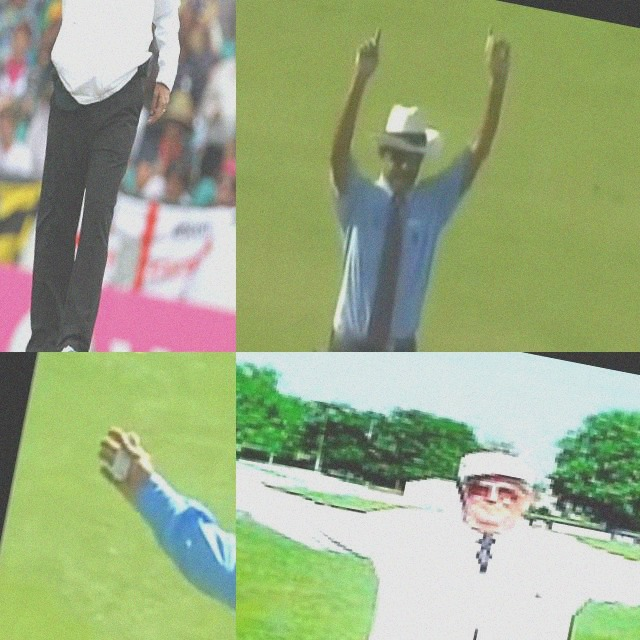No_Ball: (0, 0, 230, 352)
Six: (243, 0, 527, 352)
Wide: (236, 374, 640, 640), (44, 361, 236, 640)
